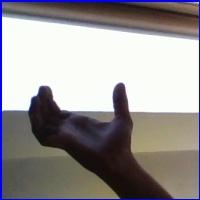space: (28, 78, 141, 170)
